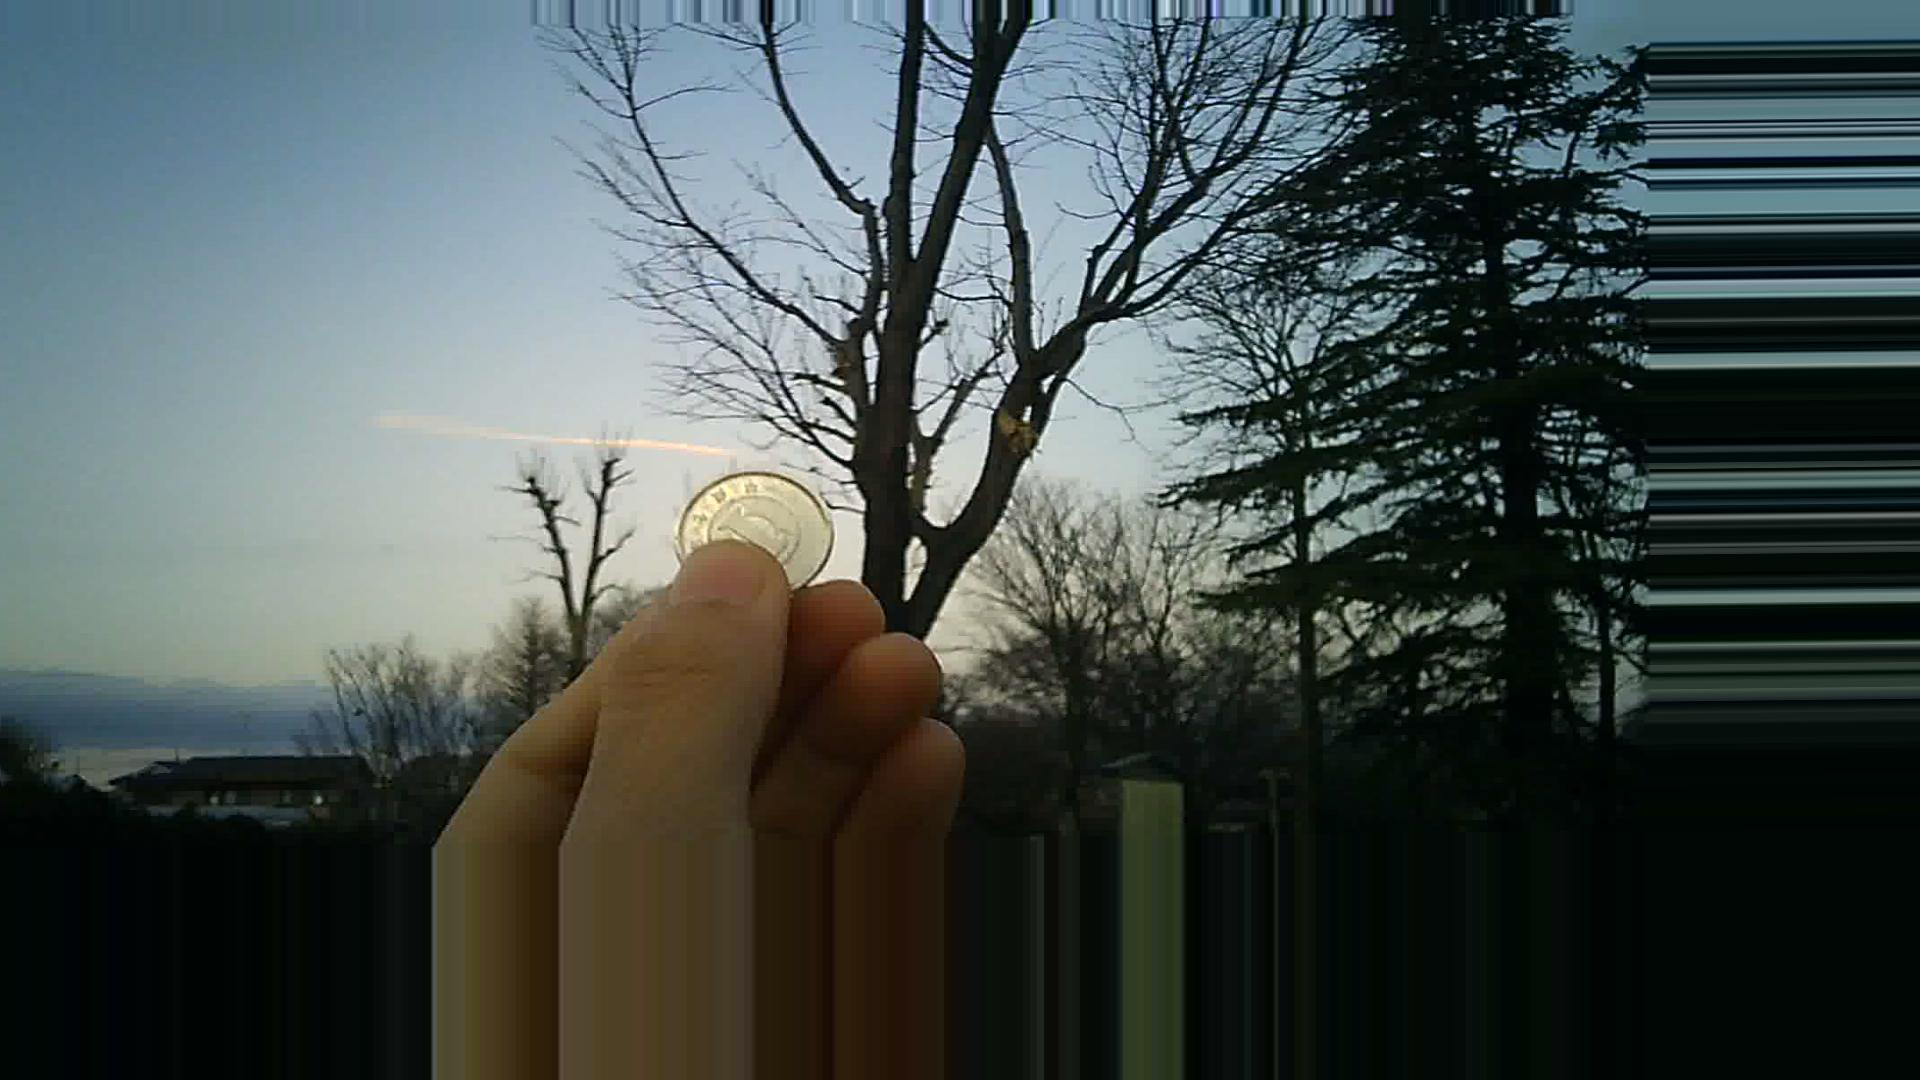1 Yen: (663, 465, 841, 597)
